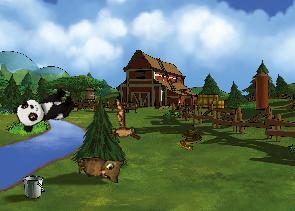eagle: (93, 95, 151, 153)
owl: (76, 155, 125, 186)
panda: (11, 82, 78, 135)
